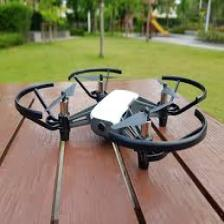drone: (15, 67, 209, 160)
